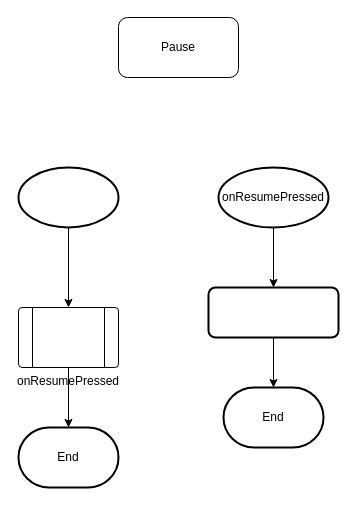
Image size: 356x506. Some labels were removed from this diagram. Here are the shapes that lost their labels. From the top down, the centre of each, then its label:
point 68,197: Start
point 273,312: GetTree().Paused=false visible=false
